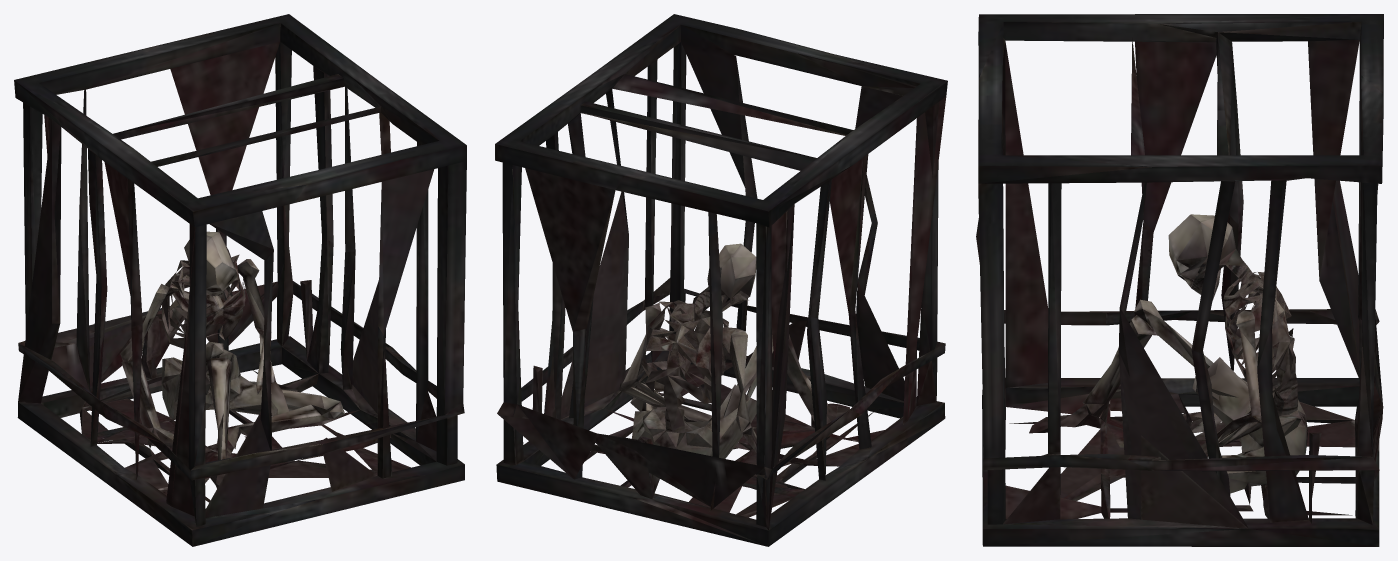
Rendered from prop-cage.glb.
The picture shows the model from 3 angles, left to right: view 1: azimuth 30°, elevation 25°; view 2: azimuth 150°, elevation 25°; view 3: azimuth 270°, elevation 25°; orthographic projection. The views are drawn at different scales.
Size of the model in its own units: 1.62 by 1.9 by 1.83.
Materials: 1 (1 with a texture image).
